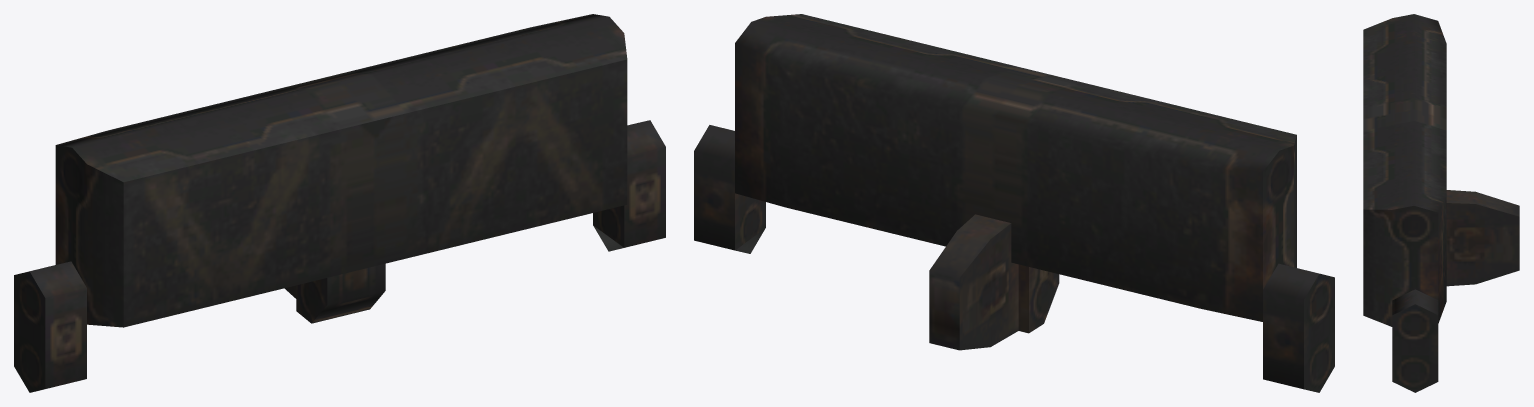
3 views of the same model, side by side, from view 1: azimuth 30°, elevation 25°; view 2: azimuth 150°, elevation 25°; view 3: azimuth 270°, elevation 25° (orthographic). The views are drawn at different scales.
Parts seen in each view (by area): view 1: set_0_group_0; view 2: set_0_group_0; view 3: set_0_group_0.
Part boxes in pixels (<box>): set_0_group_0: <box>14,14,665,392</box>; set_0_group_0: <box>694,14,1334,392</box>; set_0_group_0: <box>1363,14,1519,392</box>.
Size of the model in its own units: 0.6404 by 0.2324 by 0.191.
1 material, 1 textured.
